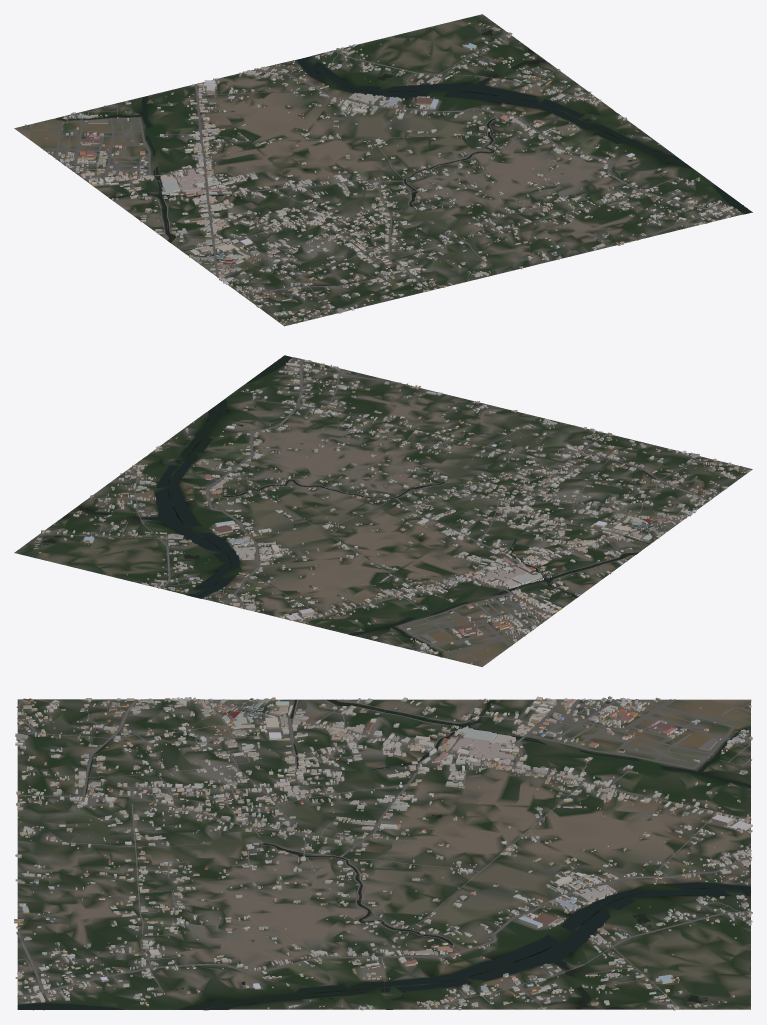
3 views of the same model, one above another, from view 1: azimuth 30°, elevation 25°; view 2: azimuth 150°, elevation 25°; view 3: azimuth 270°, elevation 25° (orthographic). The views are drawn at different scales.
Visible parts, largest first — view 1: ground, buildings, roads, water; view 2: ground, buildings, roads, water; view 3: ground, buildings, roads, water.
Part boxes in pixels (x1=…): ground: x1=14, y1=14, x2=752, y2=326; buildings: x1=24, y1=22, x2=739, y2=324; roads: x1=19, y1=24, x2=736, y2=325; water: x1=56, y1=29, x2=751, y2=286; ground: x1=14, y1=357, x2=752, y2=666; buildings: x1=33, y1=359, x2=749, y2=664; roads: x1=33, y1=359, x2=751, y2=665; water: x1=42, y1=355, x2=707, y2=655; ground: x1=17, y1=699, x2=751, y2=1010; buildings: x1=14, y1=696, x2=752, y2=1010; roads: x1=16, y1=699, x2=751, y2=1009; water: x1=17, y1=699, x2=750, y2=1010.
Size of the model in its own units: 2820 by 28.77 by 2822.
